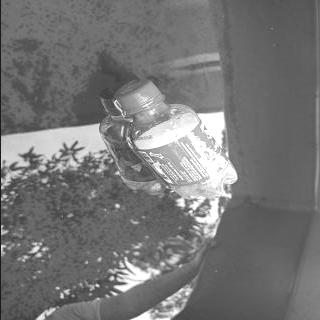bottle: (113, 76, 239, 202)
